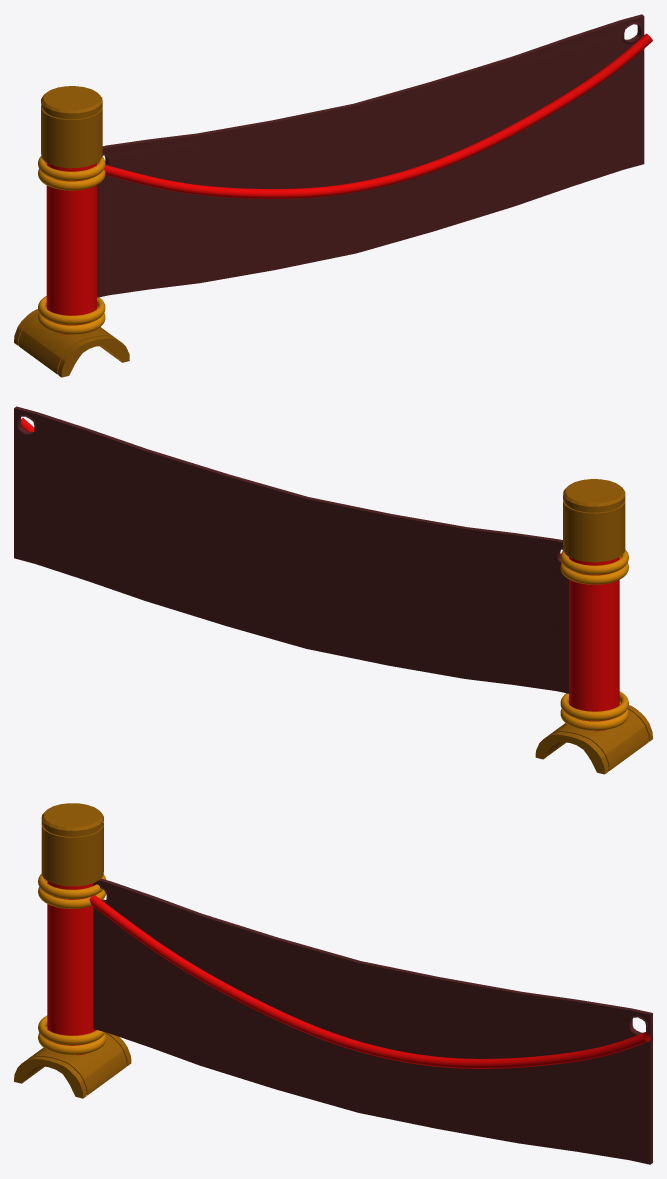
Rendered from Post_Update.fbx.
3 renders of one model, top to bottom at view 1: azimuth 30°, elevation 25°; view 2: azimuth 150°, elevation 25°; view 3: azimuth 330°, elevation 25°, orthographic.
Parts seen in each view (by area): view 1: Curtain, Post, NeonLight_Post, Base, Loop3, Loop, Loop2, Loop1; view 2: Curtain, Post, Base, Loop3, Loop, Loop2, Loop1; view 3: Curtain, Post, NeonLight_Post, Base, Loop3, Loop2, Loop, Loop1.
Part boxes in pixels (x1=…): Curtain: x1=97, y1=14, x2=644, y2=297; Post: x1=41, y1=86, x2=102, y2=334; NeonLight_Post: x1=104, y1=33, x2=652, y2=198; Base: x1=14, y1=309, x2=129, y2=377; Loop3: x1=38, y1=296, x2=105, y2=324; Loop: x1=38, y1=156, x2=105, y2=180; Loop2: x1=38, y1=307, x2=105, y2=334; Loop1: x1=38, y1=163, x2=105, y2=190; Curtain: x1=14, y1=406, x2=568, y2=693; Post: x1=563, y1=479, x2=625, y2=731; Base: x1=535, y1=705, x2=652, y2=774; Loop3: x1=560, y1=691, x2=628, y2=720; Loop: x1=560, y1=549, x2=628, y2=574; Loop2: x1=560, y1=702, x2=628, y2=730; Loop1: x1=560, y1=556, x2=628, y2=584; Curtain: x1=93, y1=878, x2=652, y2=1164; Post: x1=41, y1=803, x2=103, y2=1055; NeonLight_Post: x1=89, y1=895, x2=650, y2=1068; Base: x1=14, y1=1032, x2=131, y2=1098; Loop3: x1=38, y1=1015, x2=105, y2=1044; Loop2: x1=38, y1=1026, x2=106, y2=1054; Loop: x1=38, y1=874, x2=106, y2=898; Loop1: x1=38, y1=881, x2=105, y2=908.
Size of the model in its own units: 4.31 by 1.72 by 0.5828.
